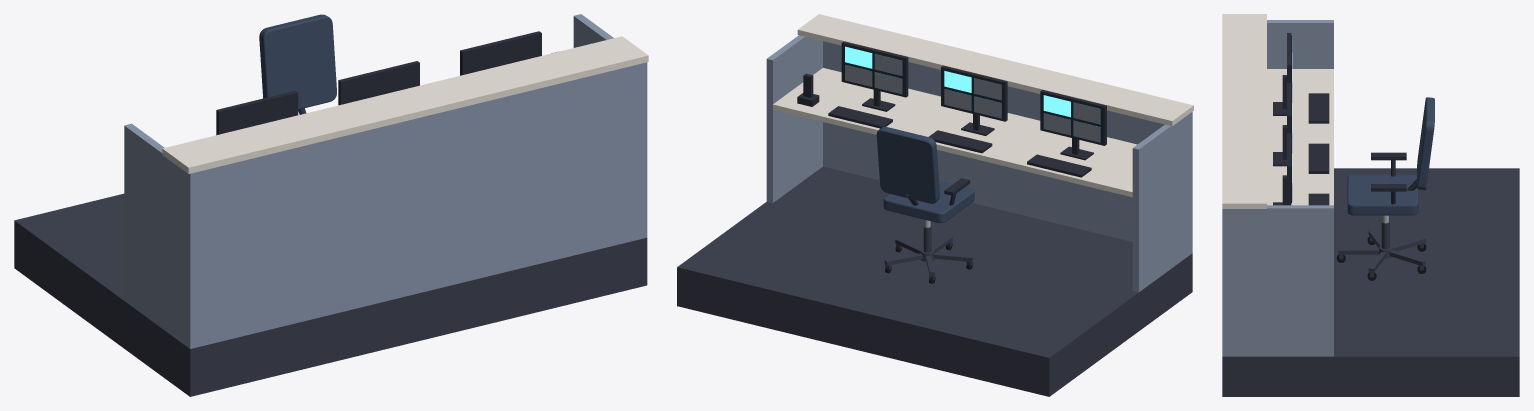
The model's file is prs-006.glb.
3 views of the same model, side by side, from view 1: azimuth 30°, elevation 25°; view 2: azimuth 150°, elevation 25°; view 3: azimuth 270°, elevation 25° (orthographic). The views are drawn at different scales.
Visible parts, largest first — view 1: cell_door, dark_steel, laminate, plastic_dark, chair_fabric; view 2: dark_steel, cell_door, laminate, plastic_dark, chair_fabric, locker_grey, monitor_screen, pump_screen; view 3: dark_steel, cell_door, laminate, plastic_dark, chair_fabric.
Boxes of the visible parts, left/top/right/bottom form: cell_door: left=124, top=14, right=647, bottom=348; dark_steel: left=14, top=193, right=647, bottom=396; laminate: left=162, top=36, right=648, bottom=173; plastic_dark: left=216, top=31, right=556, bottom=135; chair_fabric: left=259, top=14, right=336, bottom=109; dark_steel: left=677, top=166, right=1192, bottom=396; cell_door: left=766, top=35, right=1192, bottom=292; laminate: left=773, top=14, right=1193, bottom=197; plastic_dark: left=797, top=41, right=1106, bottom=205; chair_fabric: left=876, top=126, right=974, bottom=223; locker_grey: left=845, top=54, right=1100, bottom=142; monitor_screen: left=843, top=45, right=1102, bottom=143; pump_screen: left=845, top=46, right=1070, bottom=117; dark_steel: left=1222, top=168, right=1519, bottom=396; cell_door: left=1222, top=20, right=1333, bottom=356; laminate: left=1222, top=14, right=1333, bottom=208; plastic_dark: left=1273, top=33, right=1416, bottom=205; chair_fabric: left=1347, top=97, right=1434, bottom=215.
Size of the model in its own units: 3.02 by 1.51 by 2.
